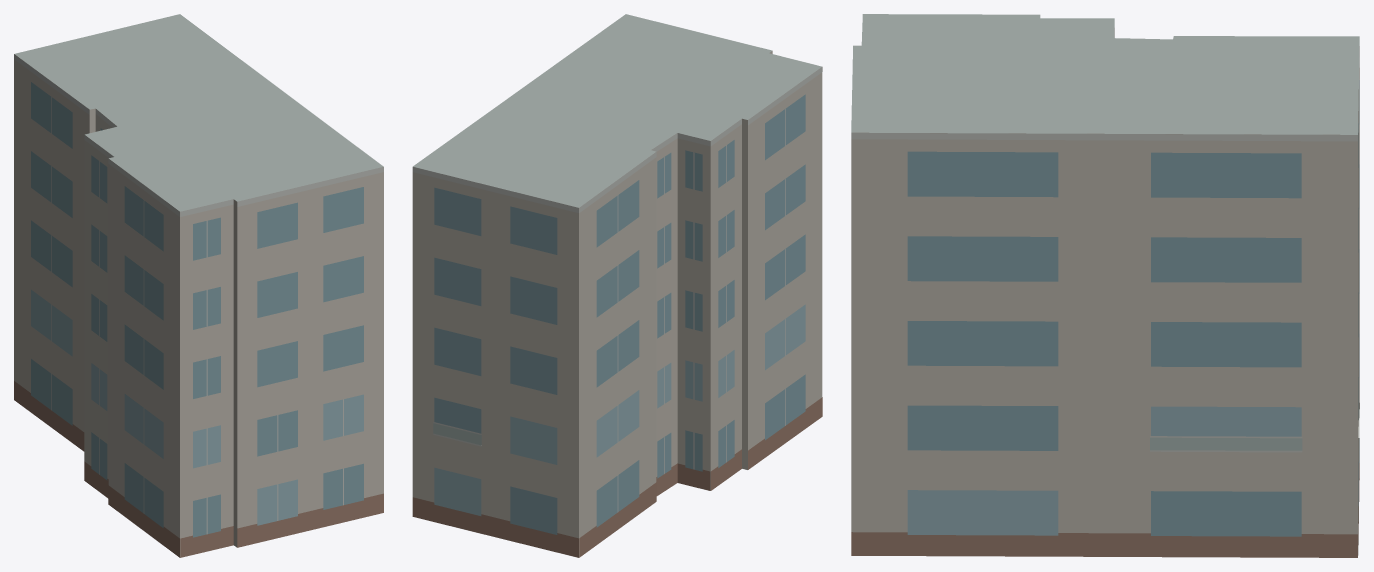
The model's file is survey-upis-32767129.glb.
The picture shows the model from 3 angles, left to right: view 1: azimuth 30°, elevation 25°; view 2: azimuth 150°, elevation 25°; view 3: azimuth 270°, elevation 25°; orthographic projection. The views are drawn at different scales.
Visible parts, largest first — view 1: survey-upis-32767129.tmp; view 2: survey-upis-32767129.tmp; view 3: survey-upis-32767129.tmp.
Part boxes in pixels (x1,y1,x2,y2): survey-upis-32767129.tmp: (14, 14, 383, 557); survey-upis-32767129.tmp: (412, 14, 822, 557); survey-upis-32767129.tmp: (851, 14, 1359, 557).
Bounding box in the file's own units: 9.71 × 15.8 × 17.23.
